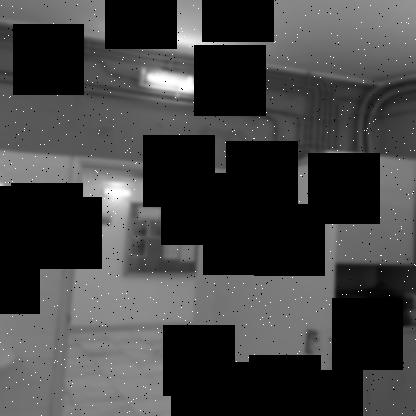Porte: (51, 155, 342, 415)
